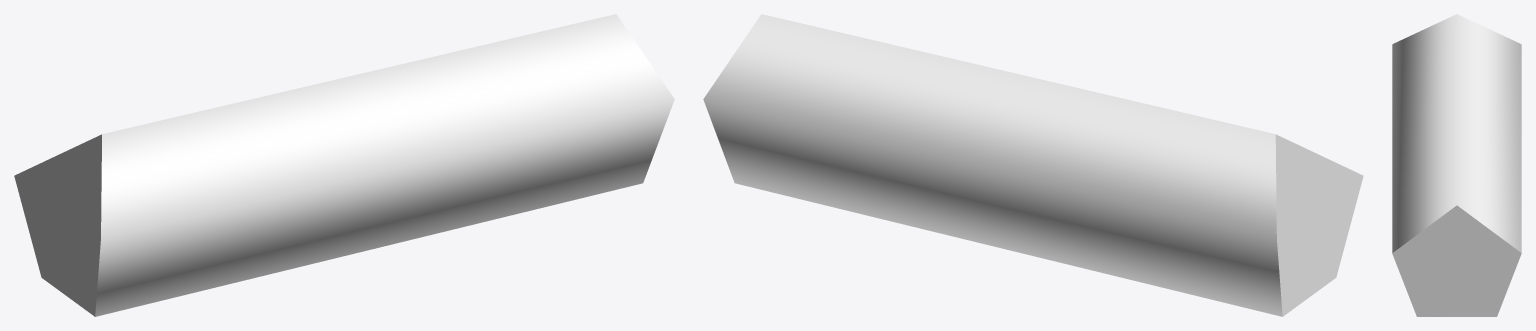
Rendered from Crayon_H.FBX.
3 renders of one model, left to right at view 1: azimuth 30°, elevation 25°; view 2: azimuth 150°, elevation 25°; view 3: azimuth 270°, elevation 25°, orthographic. The views are drawn at different scales.
Visible parts, largest first — view 1: Crayon_And_Chalk; view 2: Crayon_And_Chalk; view 3: Crayon_And_Chalk.
Part boxes in pixels (x1,y1,x2,y2): Crayon_And_Chalk: [14, 14, 674, 316]; Crayon_And_Chalk: [703, 14, 1363, 316]; Crayon_And_Chalk: [1392, 14, 1521, 316].
Size of the model in its own units: 29.04 by 7.49 by 7.61.
